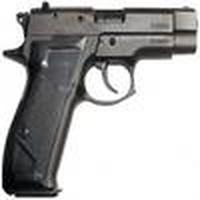gun: (2, 7, 200, 197)
